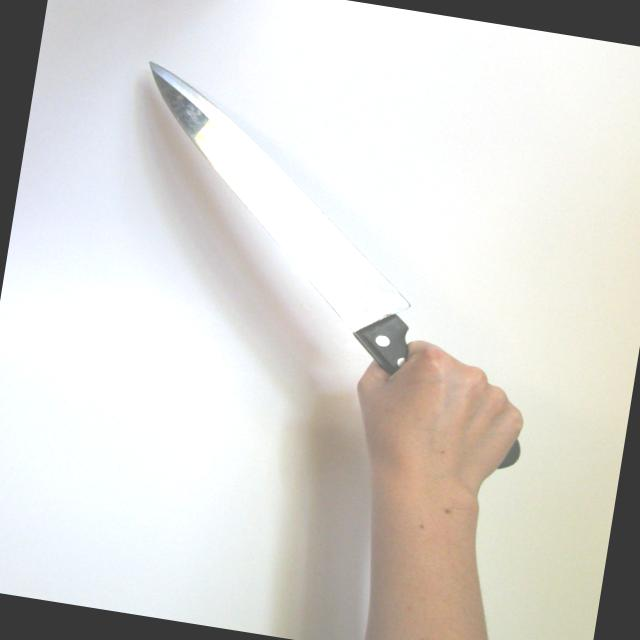knife: (78, 44, 562, 446)
